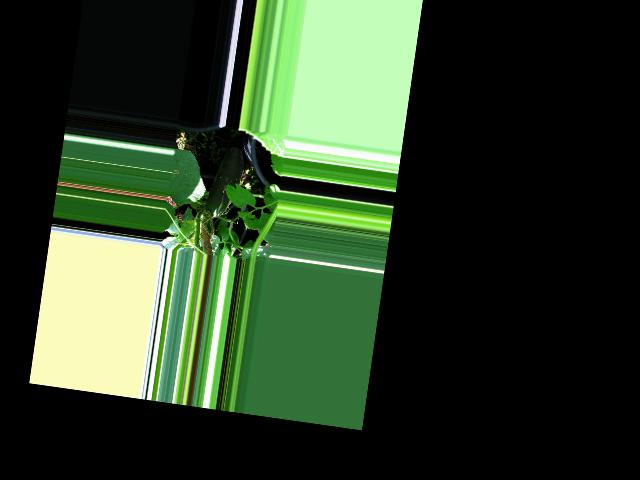cucumber: (203, 144, 246, 220)
